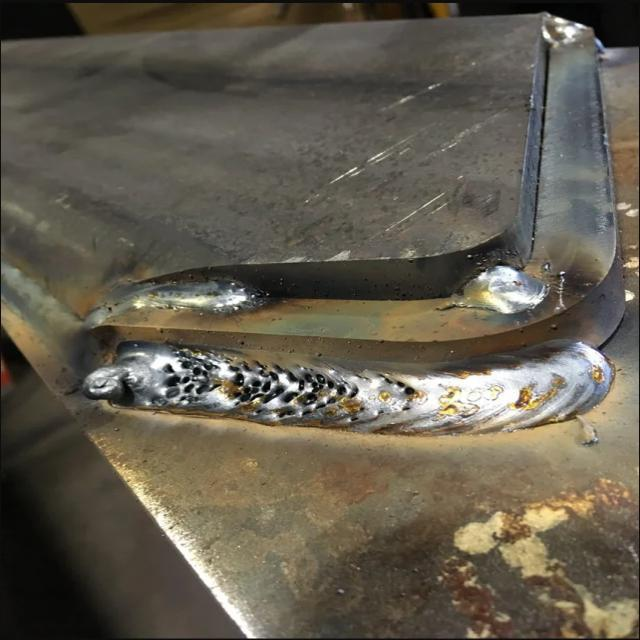defect: (157, 347, 363, 423), (376, 373, 421, 398), (399, 404, 414, 416), (354, 373, 370, 382), (371, 409, 391, 416), (349, 416, 360, 422), (358, 407, 367, 412)
